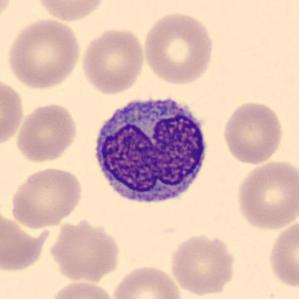Lymphocyte: (88, 88, 214, 212)
Monocyte: (88, 88, 214, 213)
RBC: (4, 16, 82, 91), (140, 10, 216, 86), (7, 165, 85, 229), (47, 216, 122, 282), (79, 26, 147, 96), (234, 158, 298, 232), (168, 231, 238, 298), (220, 99, 286, 166), (14, 100, 80, 164), (0, 215, 52, 275), (109, 262, 185, 299), (266, 217, 298, 290), (0, 76, 27, 149), (33, 0, 108, 23), (47, 278, 117, 299), (0, 1, 16, 28)
